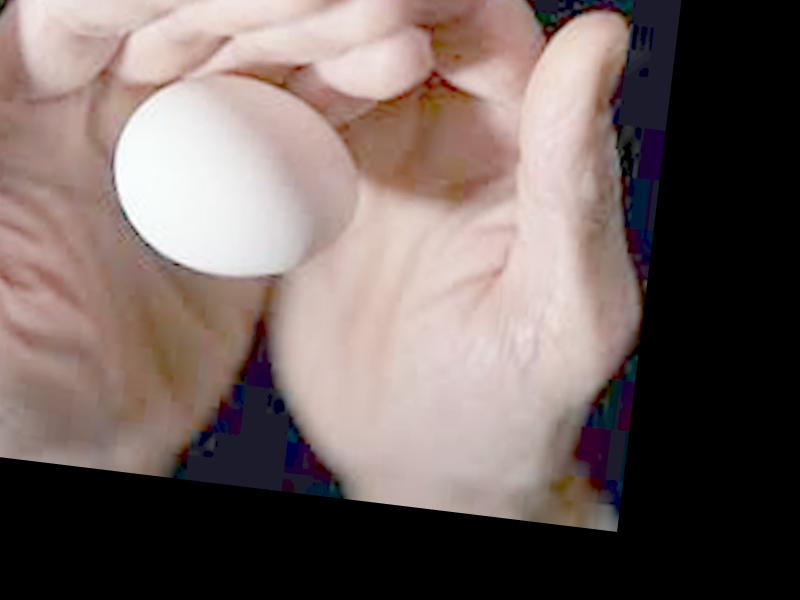Eggs: (101, 64, 368, 291)
